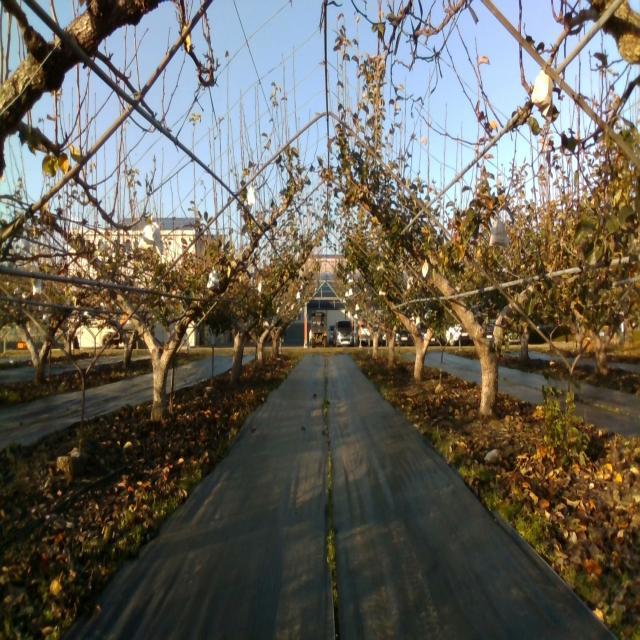pearbags: (531, 69, 553, 122), (138, 215, 162, 256), (488, 218, 510, 248), (207, 267, 220, 289)
